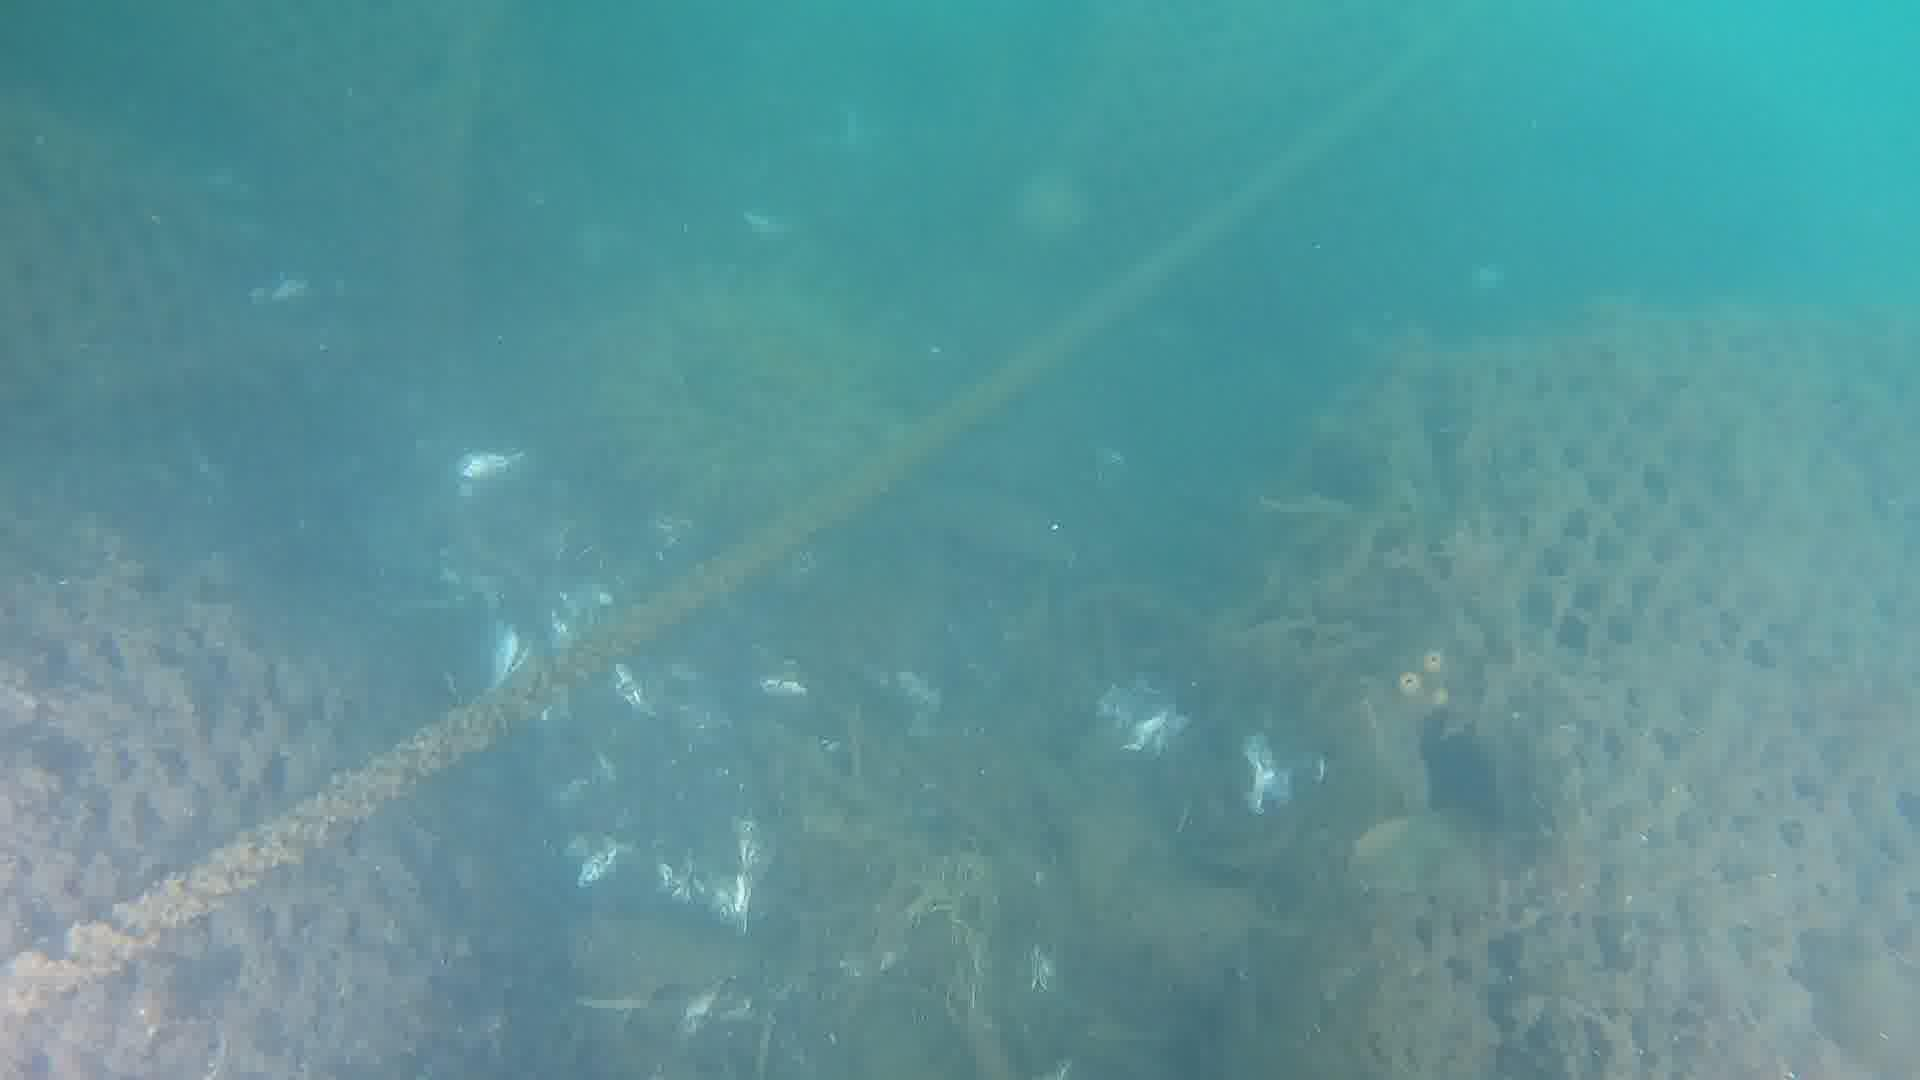fish net: (0, 0, 522, 1077), (1331, 301, 1920, 1080)
rope: (0, 8, 1478, 1023)
